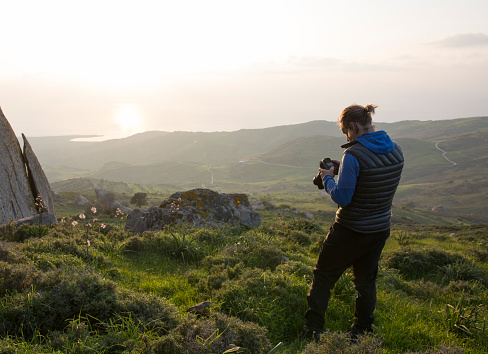em pe: (296, 99, 395, 341)
